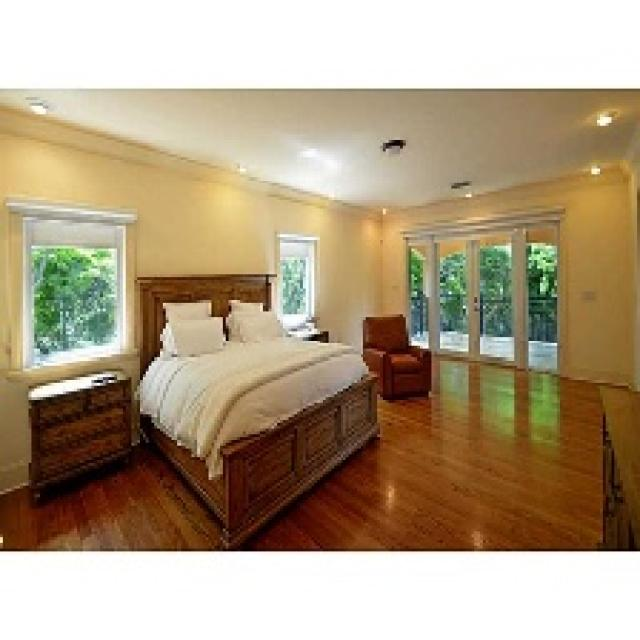Bed: (134, 272, 380, 548)
